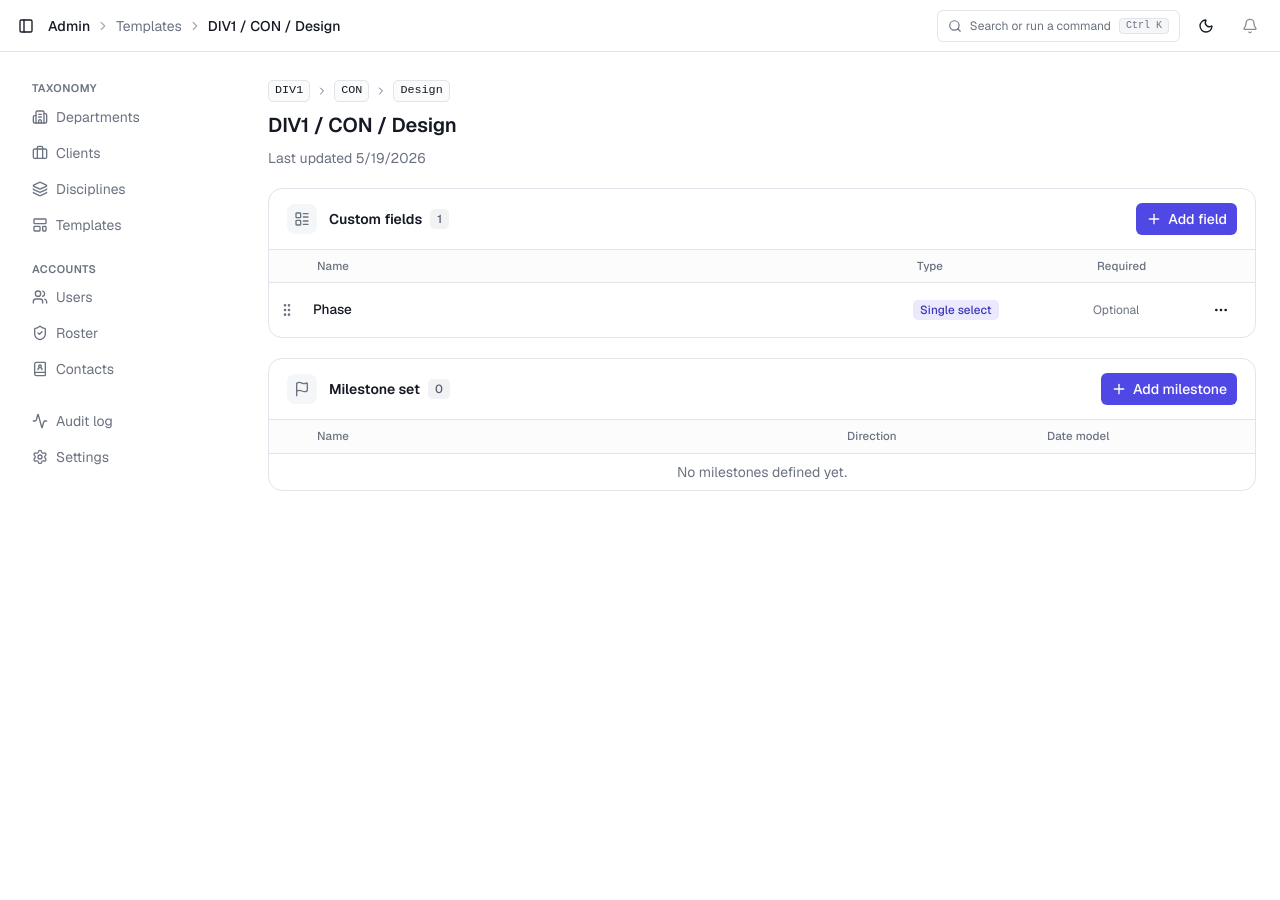
Test: TemplateDetailPage › shows the options editor when editing a single_select field
Expected: the text "Phase" is shown, 305,283 -> 905,337
What coordinates should you click on to do the following:
click the button named "actions for Phase"
I would click on:
 (1221, 310)
Its box is 1203,292 -> 1239,328.
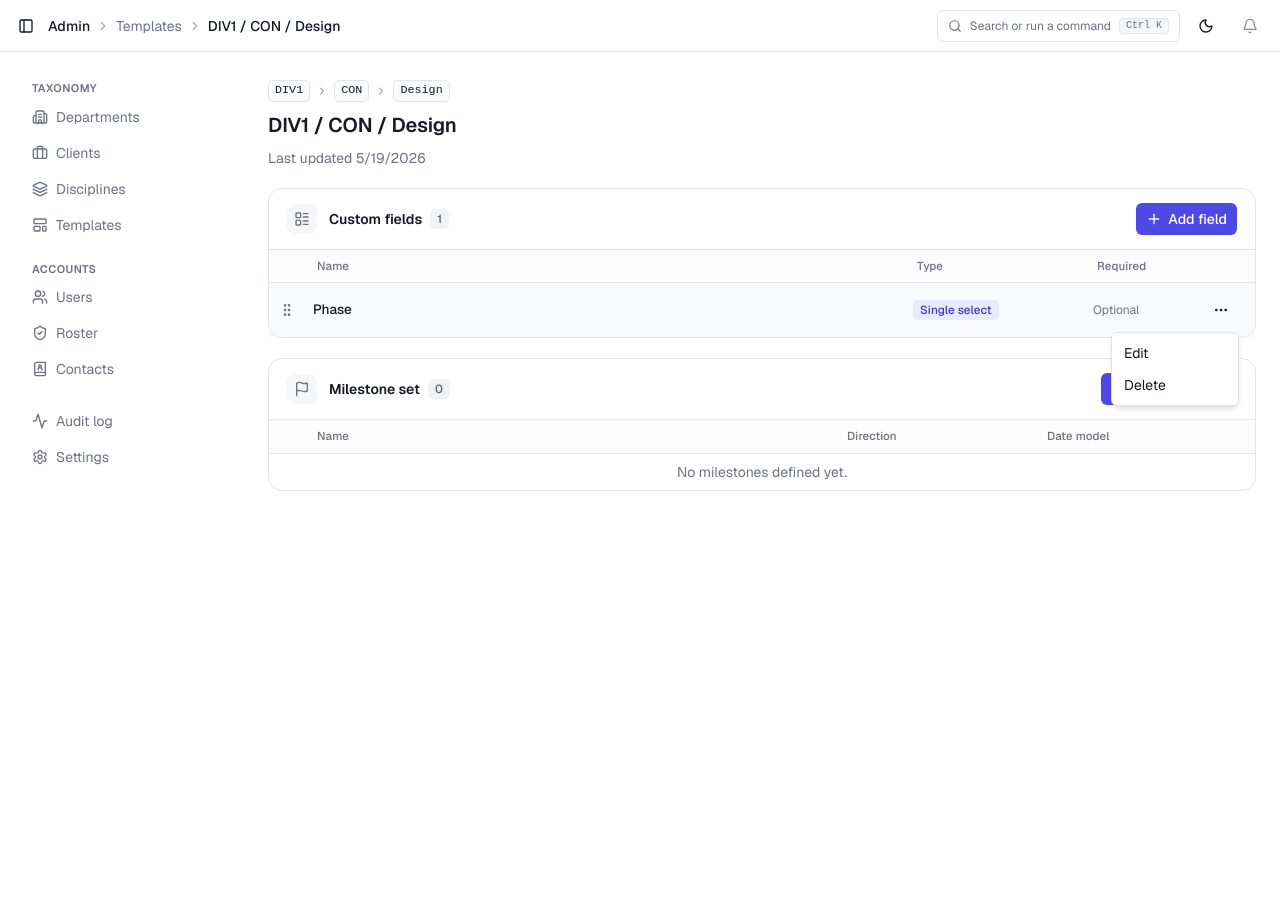
What coordinates should you click on to do the following:
click the menu item "Edit"
I would click on:
 (1136, 353)
Its box is 1124,344 -> 1149,362.
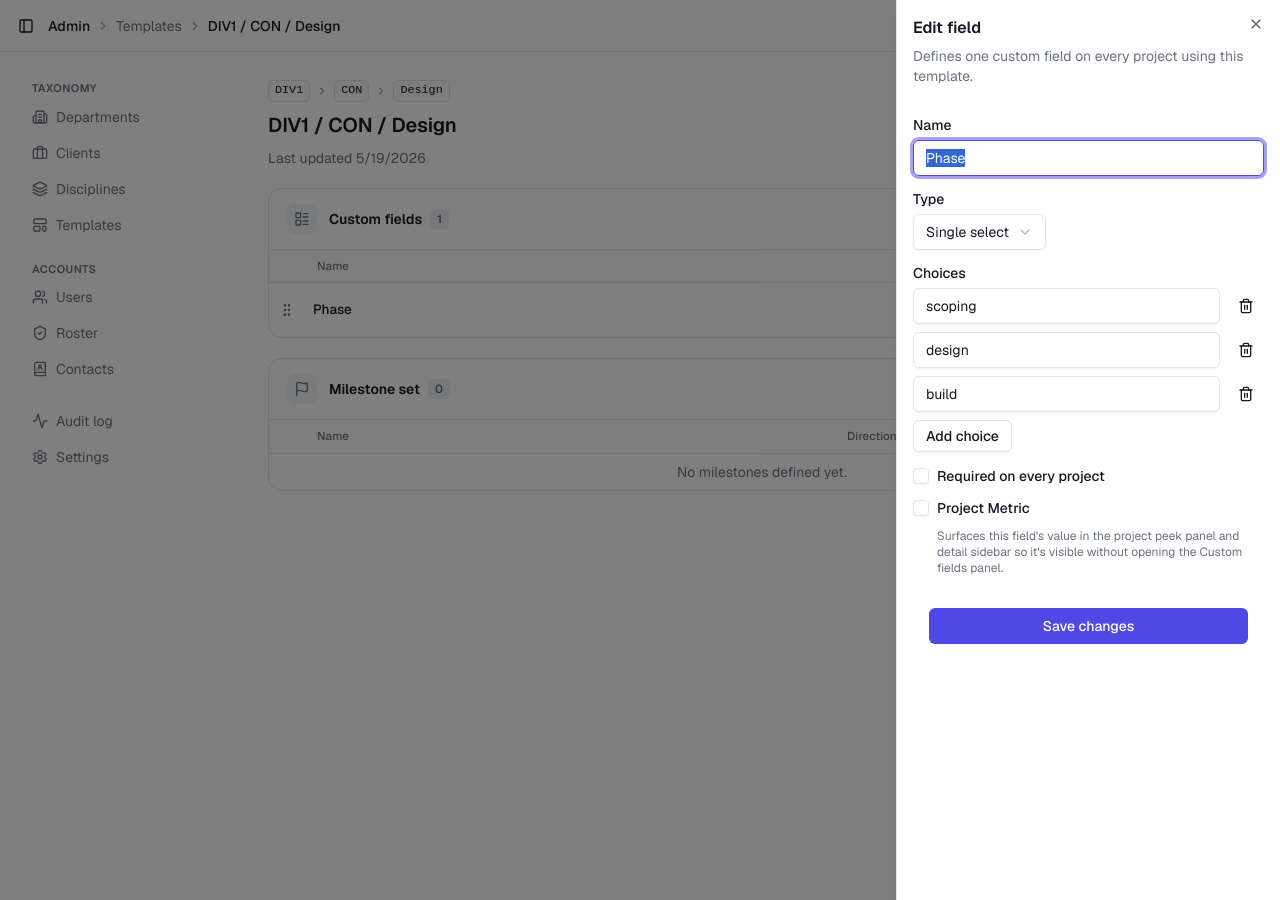
Now the 1st field showing "scoping" is shown, box 913,288 -> 1220,324
Now the 2nd field showing "design" is shown, box 913,332 -> 1220,368
Now the 3rd field showing "build" is shown, box 913,376 -> 1220,412
